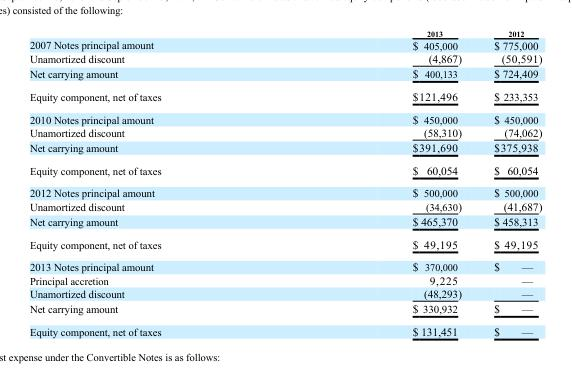table: (28, 29, 541, 337)
table column: (28, 29, 286, 337), (286, 29, 477, 337), (477, 29, 541, 337)
table column header: (28, 29, 541, 38)
table row: (28, 84, 541, 107), (28, 158, 541, 181), (28, 232, 541, 255), (28, 65, 541, 84), (28, 139, 541, 158), (28, 213, 541, 232), (28, 300, 541, 319), (28, 107, 541, 125), (28, 181, 541, 199), (28, 255, 541, 273), (28, 319, 541, 337), (28, 51, 541, 65), (28, 125, 541, 139), (28, 199, 541, 213), (28, 286, 541, 300), (28, 38, 541, 51), (28, 273, 541, 286), (28, 29, 541, 38)
